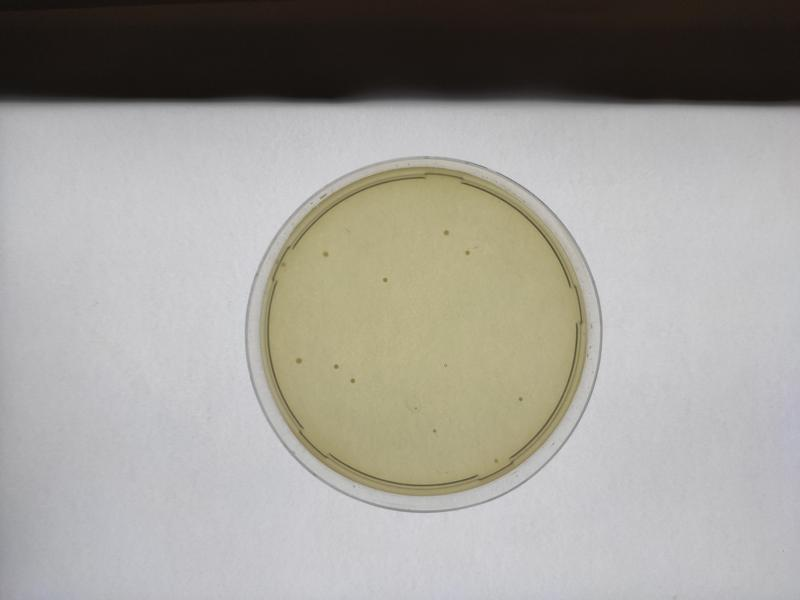colony: (289, 353, 306, 370), (436, 359, 451, 375), (439, 224, 454, 239), (460, 244, 473, 261), (378, 272, 393, 285), (329, 360, 341, 375), (345, 375, 360, 387), (513, 393, 528, 405), (318, 249, 331, 261), (428, 425, 440, 436)
